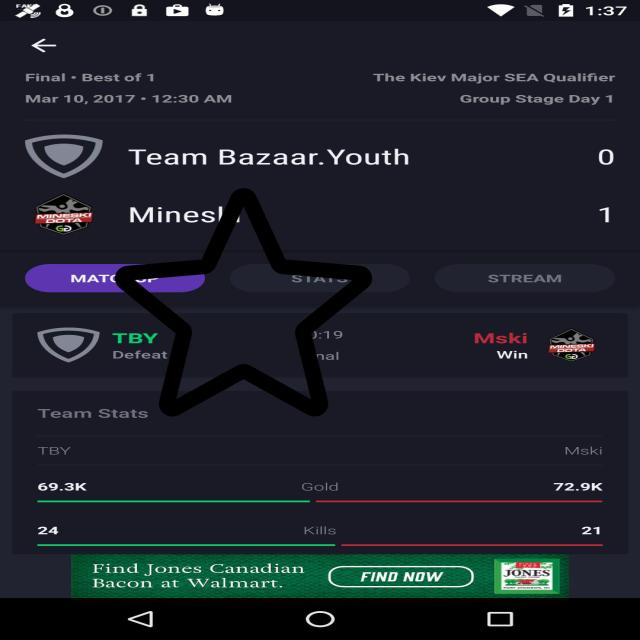forced continuity: (115, 183, 372, 421)
